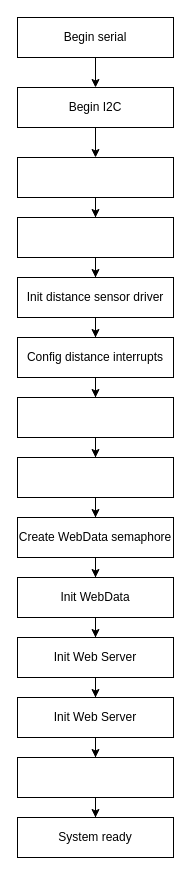
The diagram is 191 pixels wide and 875 high, and some of its shapes have lost their labels. Each missing label, with the box of its shape:
Assign Distance driver watchdog memory: (16, 396, 174, 438)
Create rcData Semaphone: (16, 156, 174, 198)
Create Realtime Tasks: (16, 756, 174, 798)
Initiate IMU Driver: (16, 456, 174, 498)
Initiate RcDriver: (16, 216, 174, 258)
